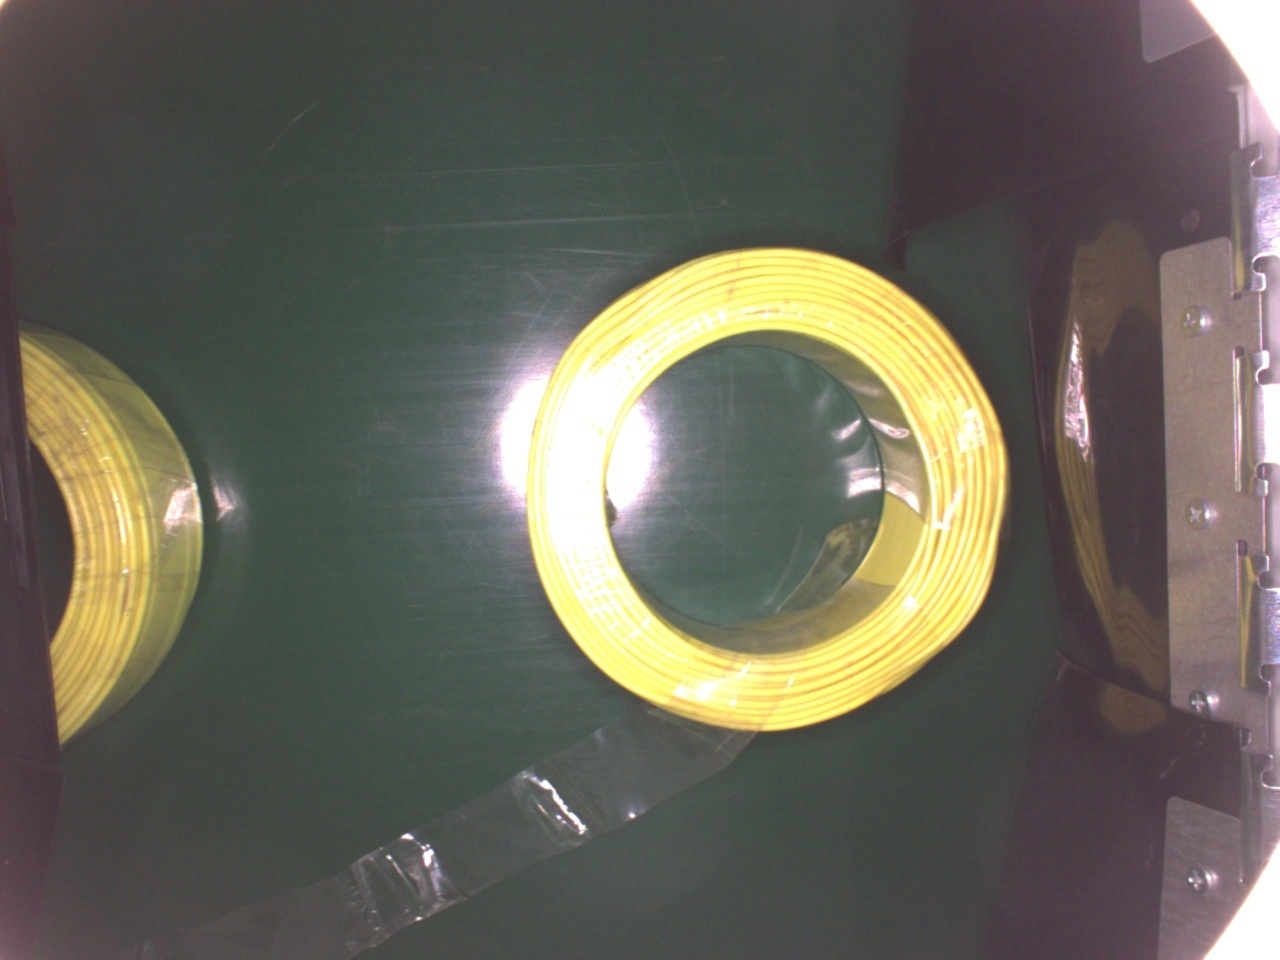yellow: (523, 240, 1007, 734), (24, 318, 207, 757)
